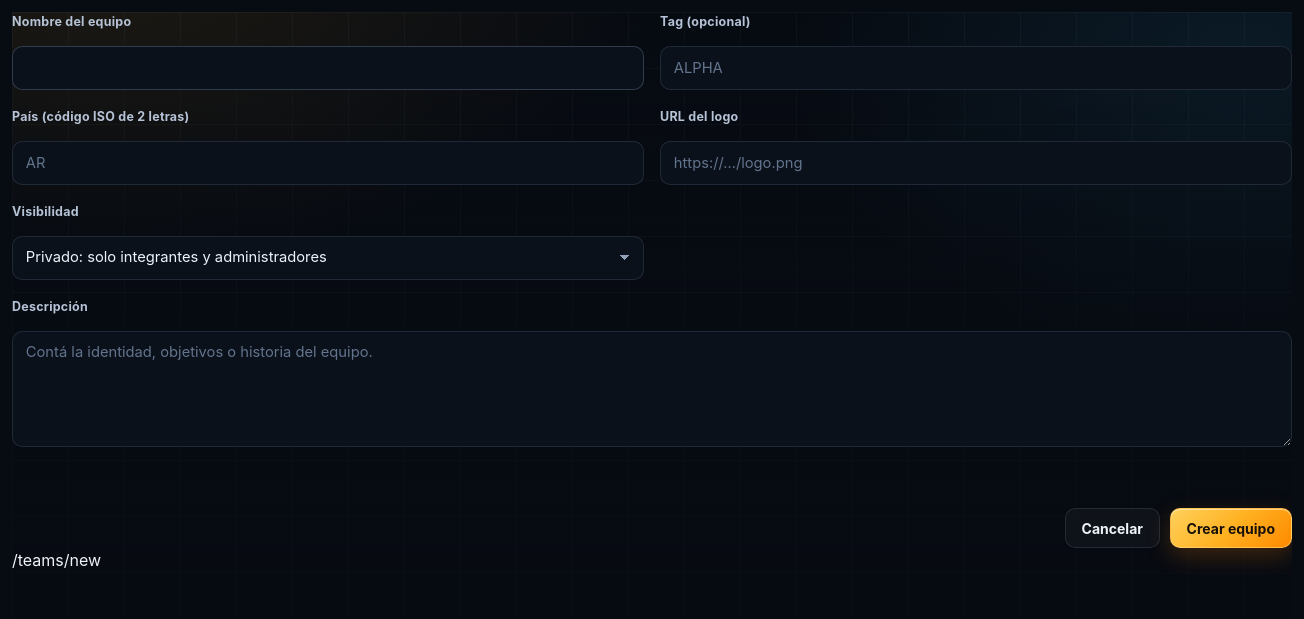
Test: TeamForm › shows a server error when the API rejects the team
The image size is (1304, 619).
Type "Alpha" into the field labelled "Nombre del equipo".
click(328, 68); type("Alpha")  # box [12,46,644,90]
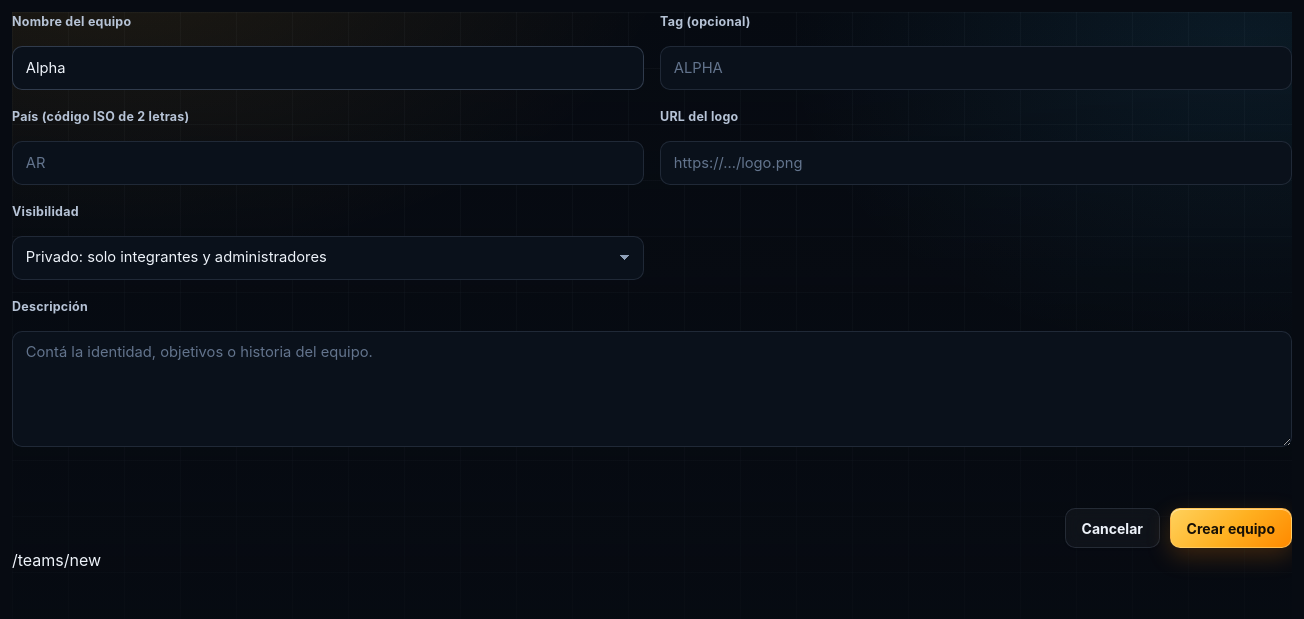
Click the button "Crear equipo".
click(1231, 528)  # box [1170,508,1292,548]
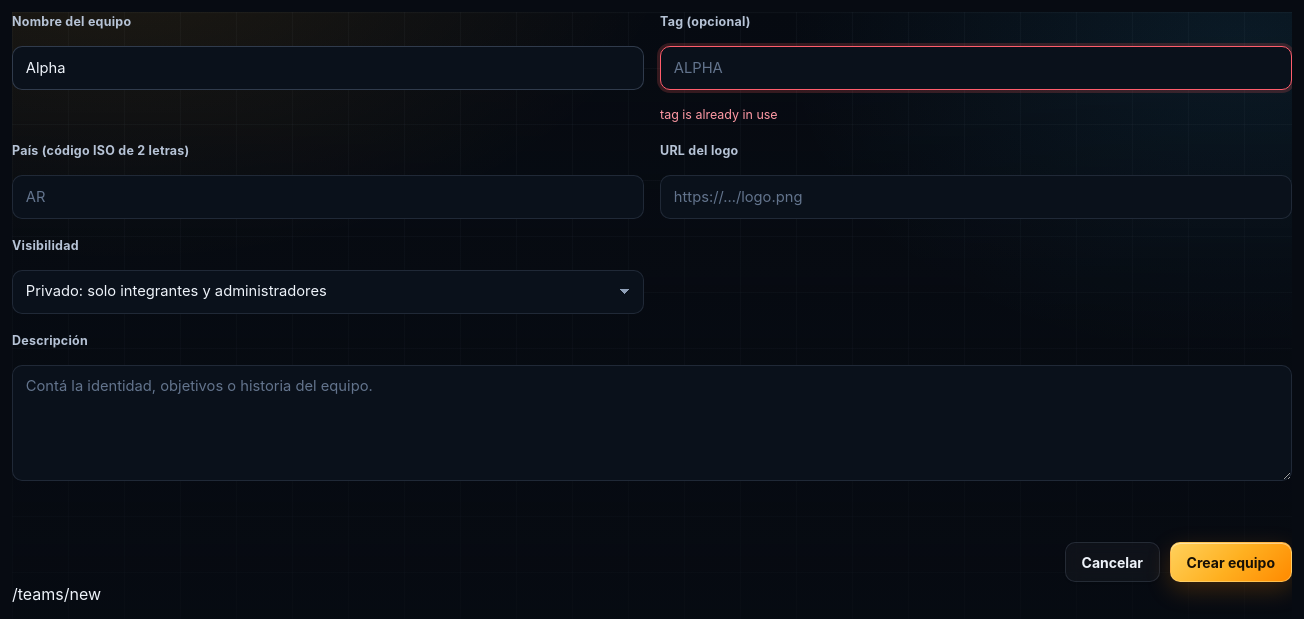
Expected: the text "tag is already in use" is shown, [660,107,778,122]
